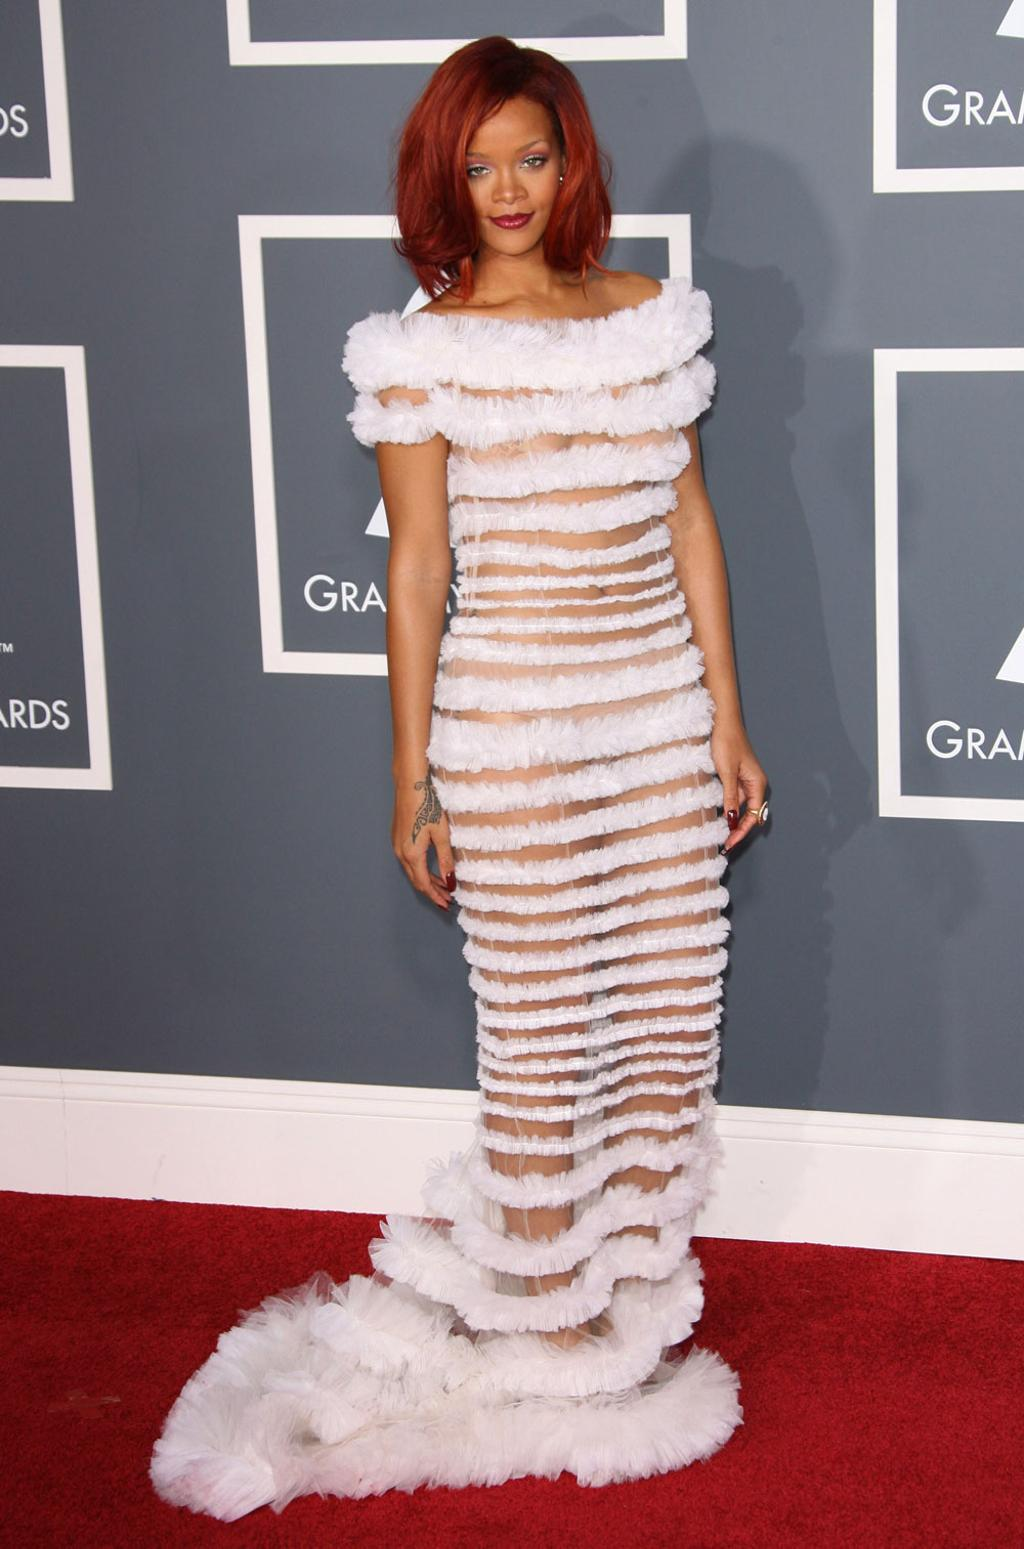face: (450, 91, 568, 254)
